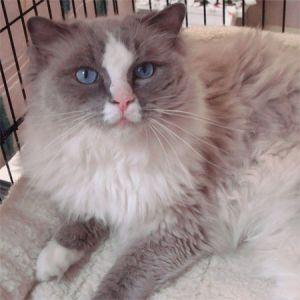ragdoll: (25, 1, 192, 142)
